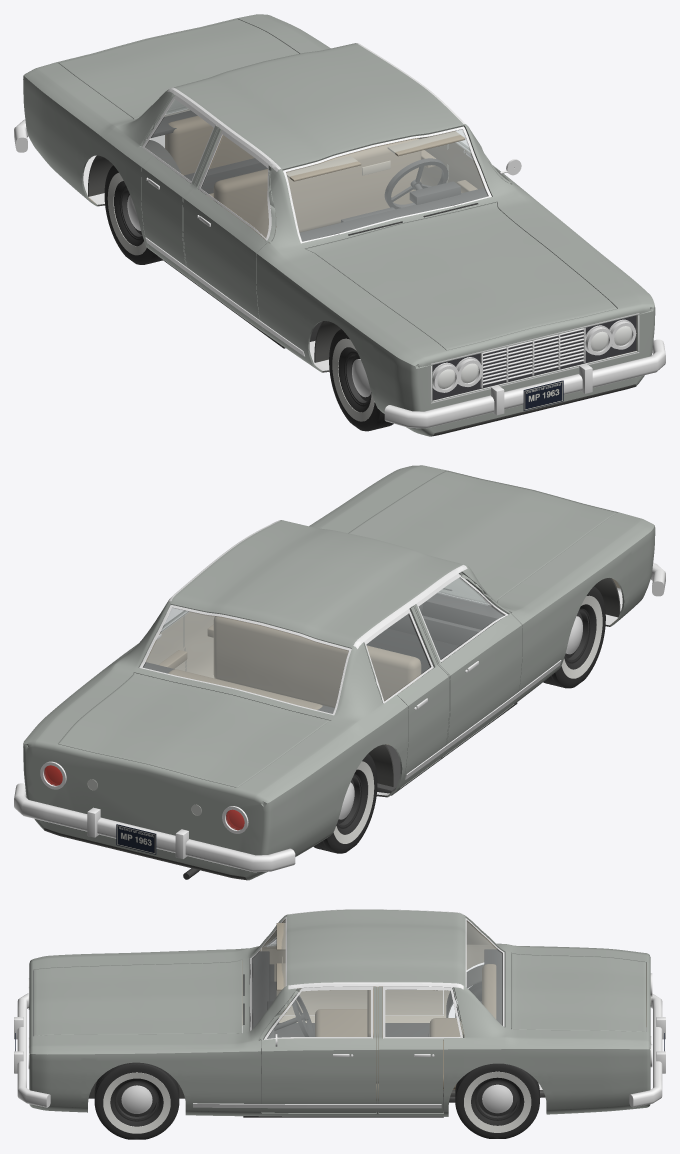
Rendered from SM_V01_Sedan_Base_Neutral.glb.
The picture shows the model from 3 angles, top to bottom: view 1: azimuth 30°, elevation 25°; view 2: azimuth 150°, elevation 25°; view 3: azimuth 270°, elevation 25°; orthographic projection. The views are drawn at different scales.
Parts seen in each view (by area): view 1: BODY, HOOD, GLASS_WINDSHIELD, TRUNK, INT_SEAT_FRONT, DOOR_FR, BUMPER_FRONT, DOOR_RR, GRILLE_BARS, GLASS_DOOR_FR, GRILLE_BACK, WHEEL_FR (+18 smaller); view 2: BODY, TRUNK, HOOD, GLASS_REAR, INT_SEAT_FRONT, DOOR_FR, BUMPER_REAR, DOOR_RR, GLASS_DOOR_FR, INT_DASH, GLASS_DOOR_RR, WHEEL_FR (+15 smaller); view 3: BODY, HOOD, TRUNK, DOOR_FL, WHEEL_FL, WHEEL_RL, DOOR_RL, GLASS_DOOR_FL, GLASS_DOOR_RL, GLASS_REAR, INT_FLOOR, INT_SEAT_FRONT (+15 smaller).
Part boxes in pixels (<box>): BODY: <box>23,14,655,436</box>; HOOD: <box>305,202,617,350</box>; GLASS_WINDSHIELD: <box>286,130,487,241</box>; TRUNK: <box>58,19,298,118</box>; INT_SEAT_FRONT: <box>213,138,421,243</box>; DOOR_FR: <box>183,128,276,331</box>; BUMPER_FRONT: <box>384,339,665,428</box>; DOOR_RR: <box>140,94,217,278</box>; GRILLE_BARS: <box>431,313,639,403</box>; GLASS_DOOR_FR: <box>202,135,268,237</box>; GRILLE_BACK: <box>432,315,636,400</box>; WHEEL_FR: <box>329,329,393,431</box>; BODY: <box>23,465,655,880</box>; TRUNK: <box>58,672,330,787</box>; HOOD: <box>349,471,617,601</box>; GLASS_REAR: <box>143,608,348,713</box>; INT_SEAT_FRONT: <box>213,616,421,745</box>; DOOR_FR: <box>414,572,522,756</box>; BUMPER_REAR: <box>14,783,295,872</box>; DOOR_RR: <box>363,606,449,787</box>; GLASS_DOOR_FR: <box>419,578,503,659</box>; INT_DASH: <box>388,593,504,646</box>; GLASS_DOOR_RR: <box>366,614,429,700</box>; WHEEL_FR: <box>543,586,605,688</box>; BODY: <box>29,909,650,1116</box>; HOOD: <box>34,959,242,1035</box>; TRUNK: <box>511,953,645,1031</box>; DOOR_FL: <box>259,987,376,1112</box>; WHEEL_FL: <box>94,1062,179,1139</box>; WHEEL_RL: <box>455,1063,539,1138</box>; DOOR_RL: <box>378,987,464,1112</box>; GLASS_DOOR_FL: <box>267,990,370,1038</box>; GLASS_DOOR_RL: <box>385,990,459,1036</box>; GLASS_REAR: <box>467,922,501,1024</box>; INT_FLOOR: <box>243,949,502,1117</box>; INT_SEAT_FRONT: <box>315,986,382,1100</box>.
Size of what is drawn, in the model's own units: 2.16 by 1.42 by 5.46.
15 materials, 1 textured.
